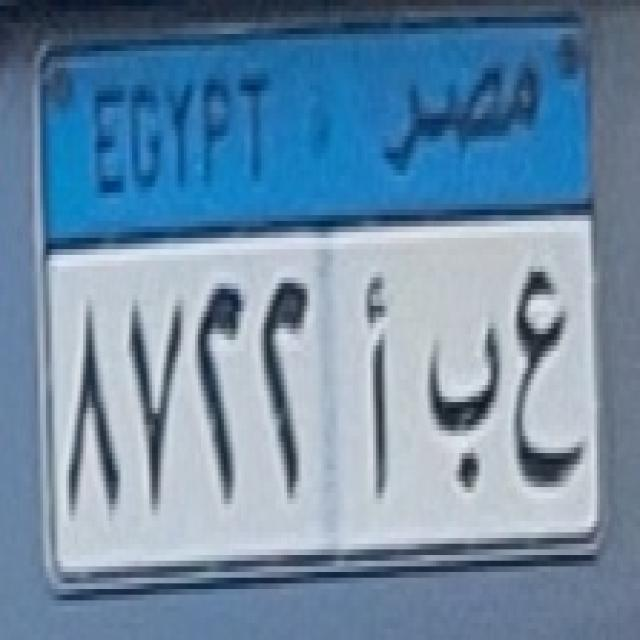2: (252, 270, 322, 510), (186, 275, 252, 510)
7: (120, 299, 188, 516)
8: (59, 286, 136, 528)
Een: (504, 266, 582, 504)
alef: (354, 266, 404, 526)
baa: (416, 303, 504, 509)
